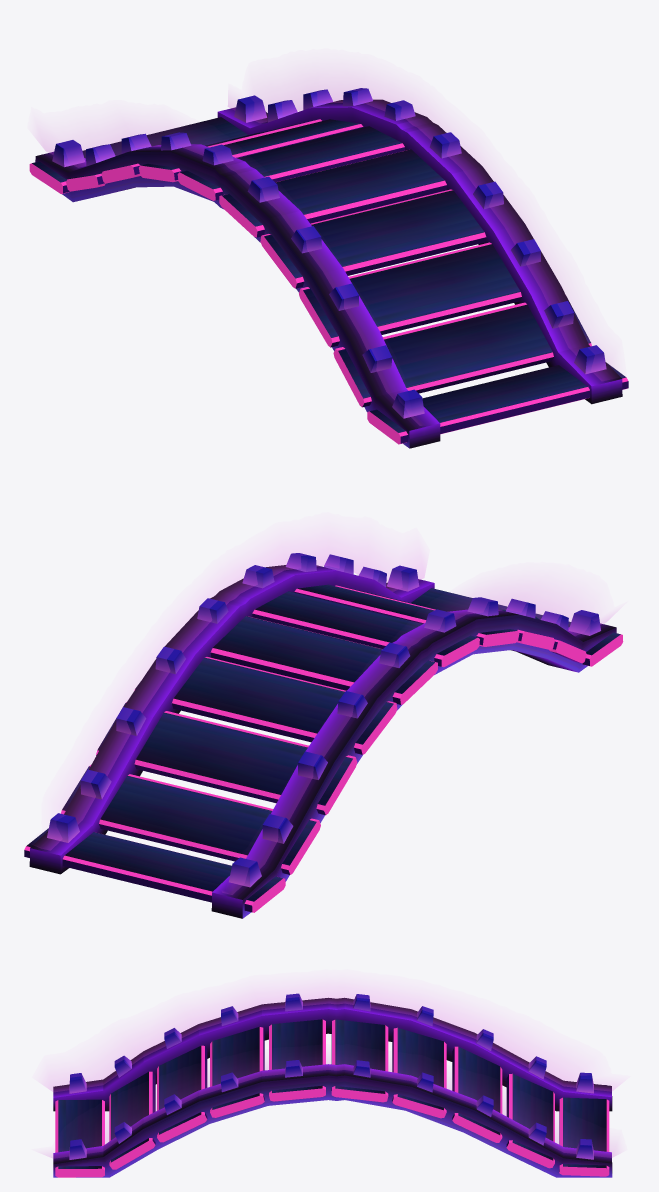
File: NeonBridge01.glb
3 renders of one model, top to bottom at view 1: azimuth 30°, elevation 25°; view 2: azimuth 150°, elevation 25°; view 3: azimuth 270°, elevation 25°, orthographic. The views are drawn at different scales.
Parts seen in each view (by area): view 1: NeonBridge01; view 2: NeonBridge01; view 3: NeonBridge01.
Boxes of the visible parts, <box> form: NeonBridge01: <box>29,80,628,448</box>; NeonBridge01: <box>24,542,623,918</box>; NeonBridge01: <box>46,988,618,1177</box>.
Size of what is drawn, in the model's own units: 1.86 by 1.58 by 5.97.
Materials: 2 (2 with a texture image).
